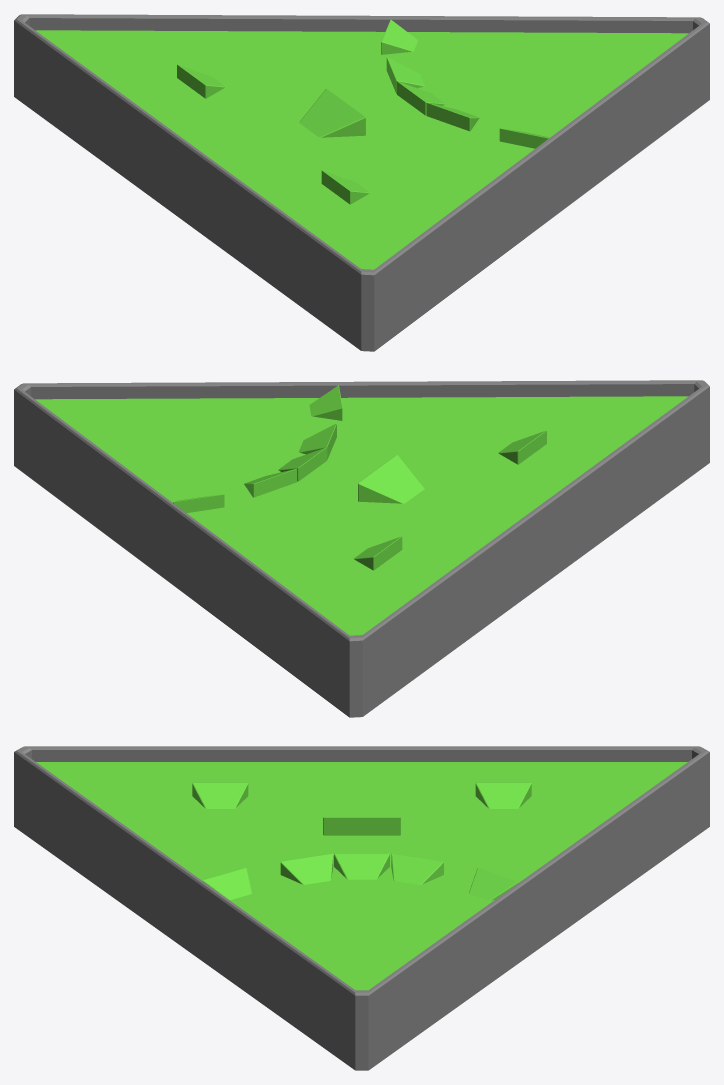
Rendered from pyramidCourse.fbx.
3 renders of one model, top to bottom at view 1: azimuth 30°, elevation 25°; view 2: azimuth 150°, elevation 25°; view 3: azimuth 270°, elevation 25°, orthographic. The views are drawn at different scales.
Visible parts, largest first — view 1: Cube, Cube.008, Cube.004, Cube.006, Cube.007, Cube.003, Cube.001, Cube.002, Cube.005; view 2: Cube, Cube.008, Cube.007, Cube.006, Cube.002, Cube.005, Cube.001, Cube.003, Cube.004; view 3: Cube, Cube.008, Cube.006, Cube.007, Cube.001, Cube.003, Cube.002, Cube.004, Cube.005.
Boxes of the visible parts, bbox=[...] form: Cube: bbox=[14, 14, 709, 351]; Cube.008: bbox=[299, 88, 365, 137]; Cube.004: bbox=[381, 19, 418, 54]; Cube.006: bbox=[321, 170, 369, 204]; Cube.007: bbox=[177, 64, 225, 98]; Cube.003: bbox=[426, 102, 479, 131]; Cube.001: bbox=[397, 81, 445, 115]; Cube.002: bbox=[386, 57, 424, 93]; Cube.005: bbox=[499, 128, 548, 148]; Cube: bbox=[14, 380, 709, 717]; Cube.008: bbox=[358, 454, 424, 503]; Cube.007: bbox=[354, 536, 402, 570]; Cube.006: bbox=[498, 430, 546, 464]; Cube.002: bbox=[244, 468, 296, 497]; Cube.005: bbox=[309, 385, 342, 420]; Cube.001: bbox=[278, 447, 326, 481]; Cube.003: bbox=[299, 423, 336, 459]; Cube.004: bbox=[173, 494, 224, 512]; Cube: bbox=[14, 746, 709, 1070]; Cube.008: bbox=[323, 817, 400, 835]; Cube.006: bbox=[192, 782, 248, 808]; Cube.007: bbox=[475, 782, 531, 808]; Cube.001: bbox=[334, 853, 389, 879]; Cube.003: bbox=[280, 853, 333, 884]; Cube.002: bbox=[391, 853, 443, 884]; Cube.004: bbox=[469, 868, 518, 900]; Cube.005: bbox=[202, 868, 252, 899].
Bounding box in the file's own units: 166 × 25.22 × 197.
